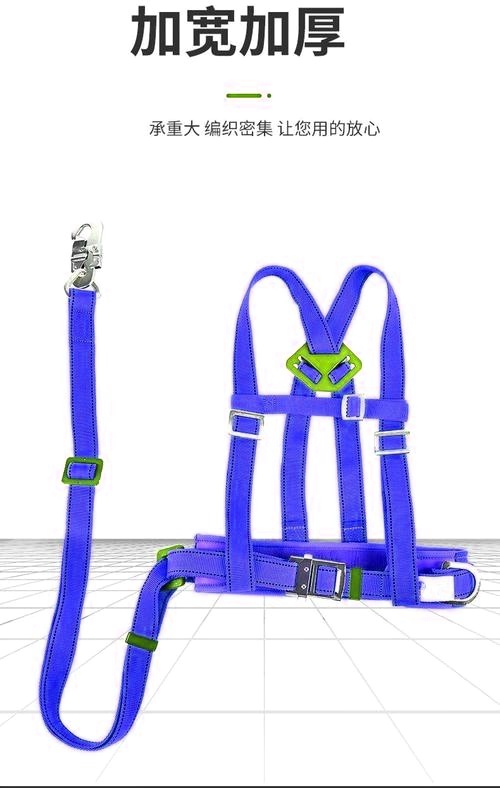safety belt: (47, 212, 474, 696)
